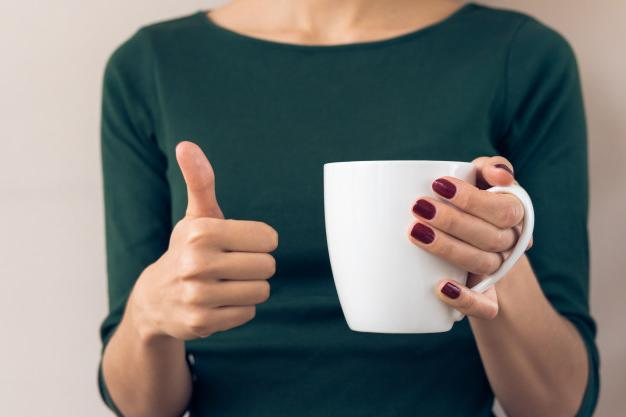thumbsup: (174, 140, 280, 336)
